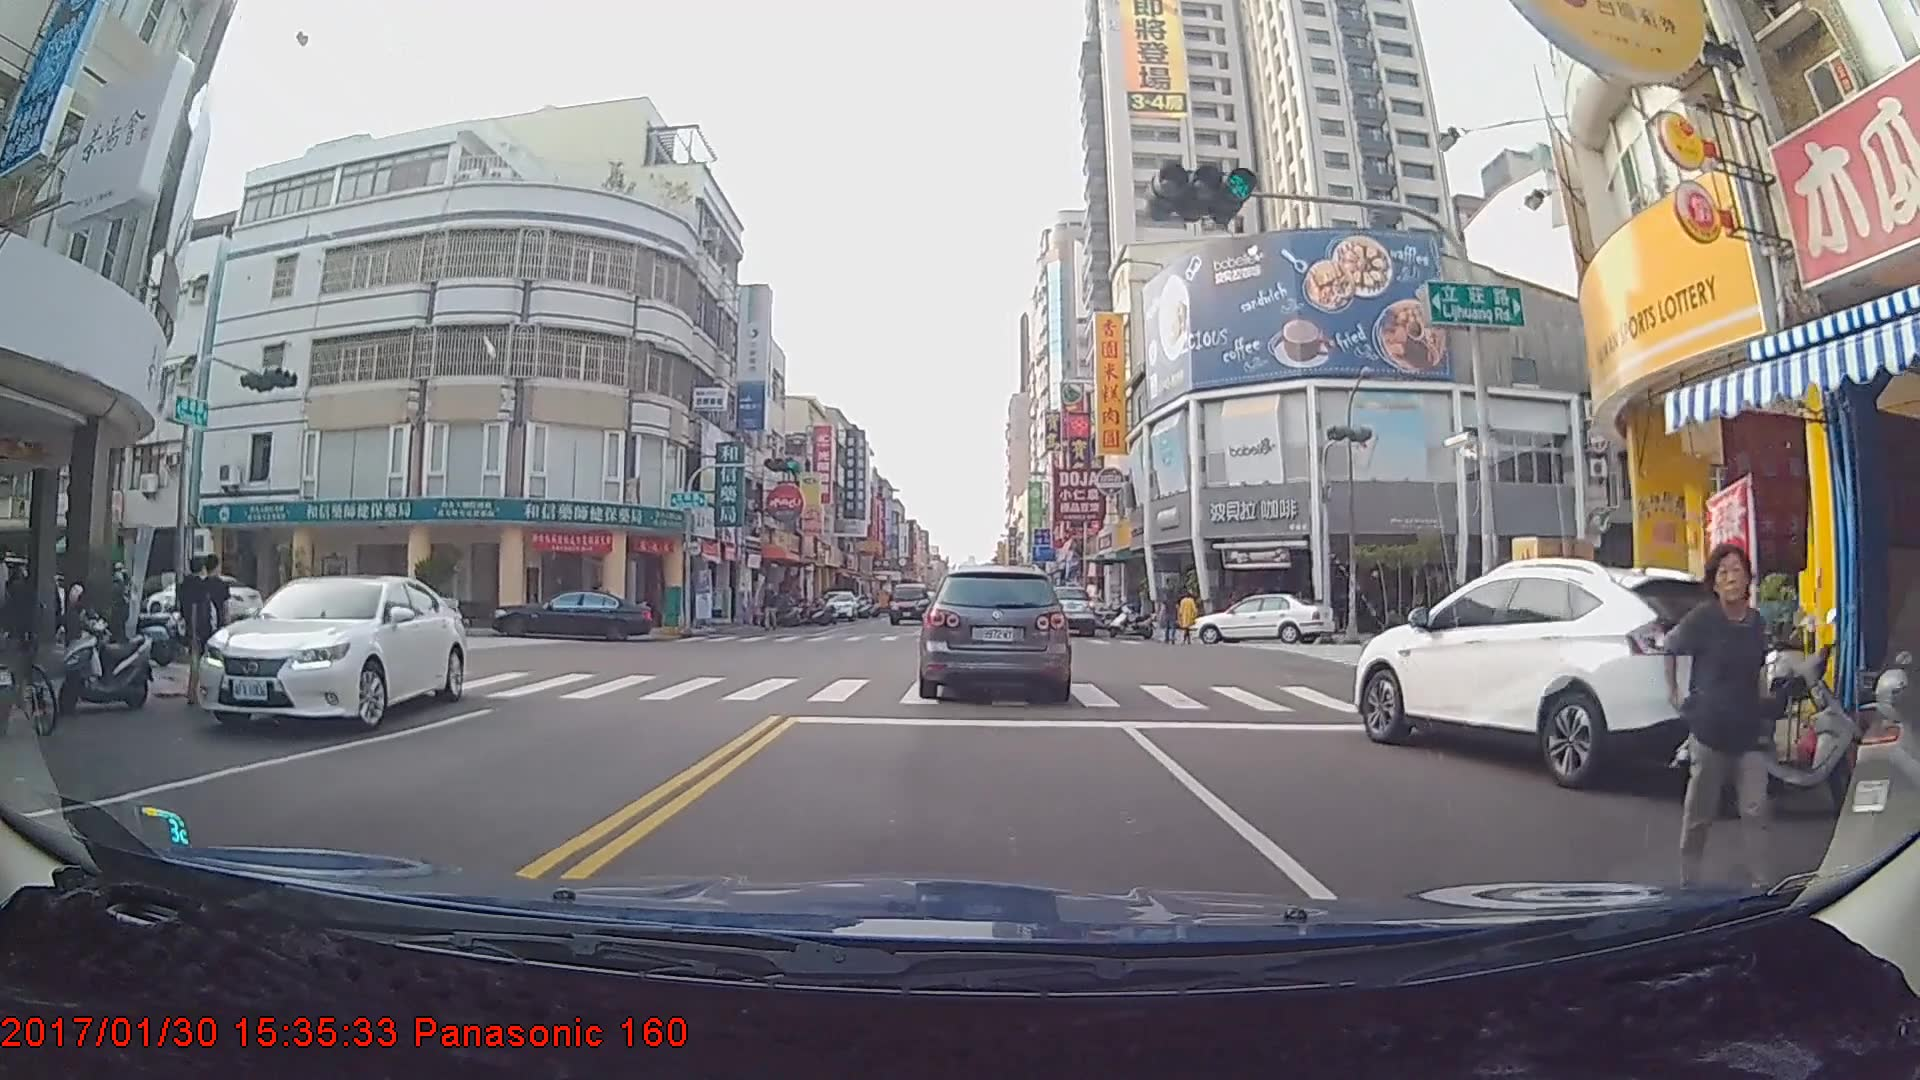pedestrian: (1665, 544, 1796, 903), (185, 554, 239, 707), (177, 559, 211, 699), (1178, 588, 1201, 646), (1162, 589, 1182, 646), (760, 582, 780, 632)
vehicle: (1353, 555, 1771, 795), (183, 572, 459, 733), (921, 562, 1068, 700), (489, 588, 652, 643), (1188, 589, 1333, 644), (1034, 583, 1096, 637), (887, 580, 930, 625), (815, 589, 858, 622)
